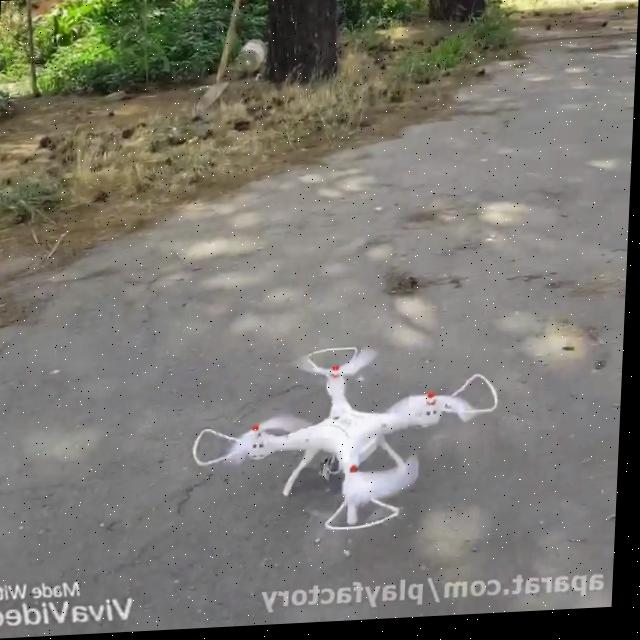drone: (192, 342, 506, 544)
